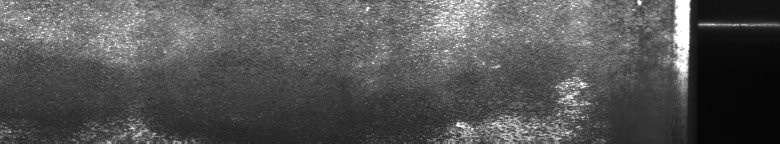kb: (4, 4, 576, 136)
